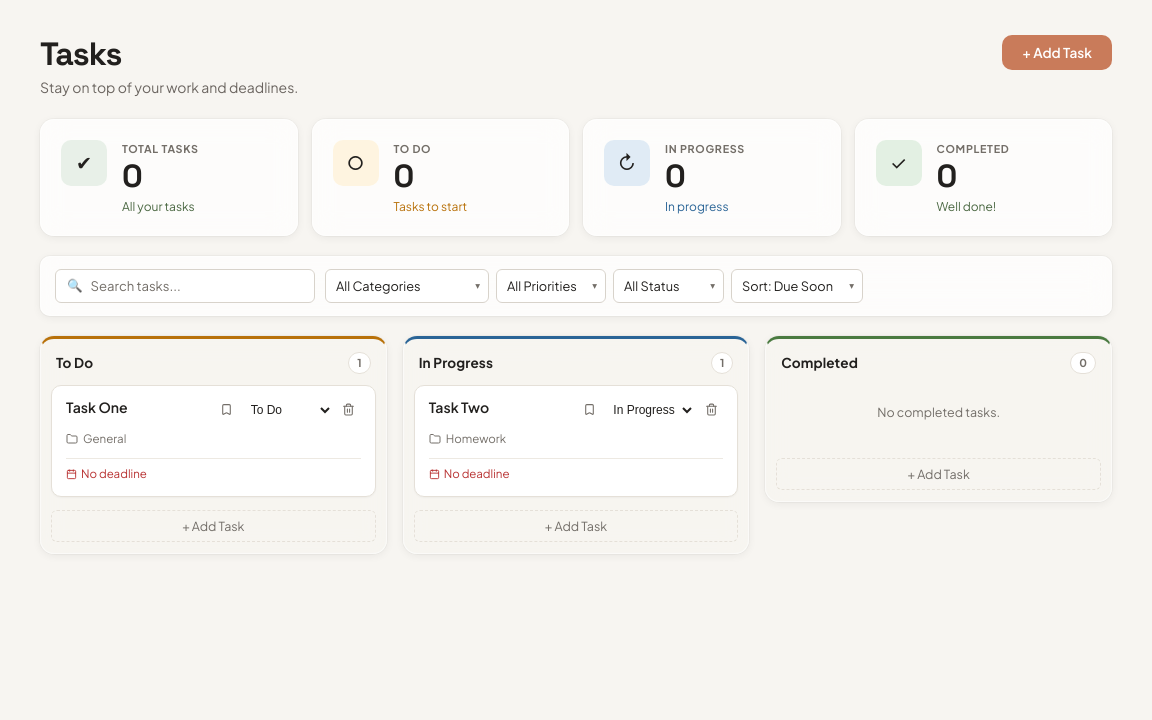
Scenario: Tasks Component › filters tasks by search query
Type "One" into the search field with placeholder "Search tasks..." at point(197, 286), box [91,278,303,294]
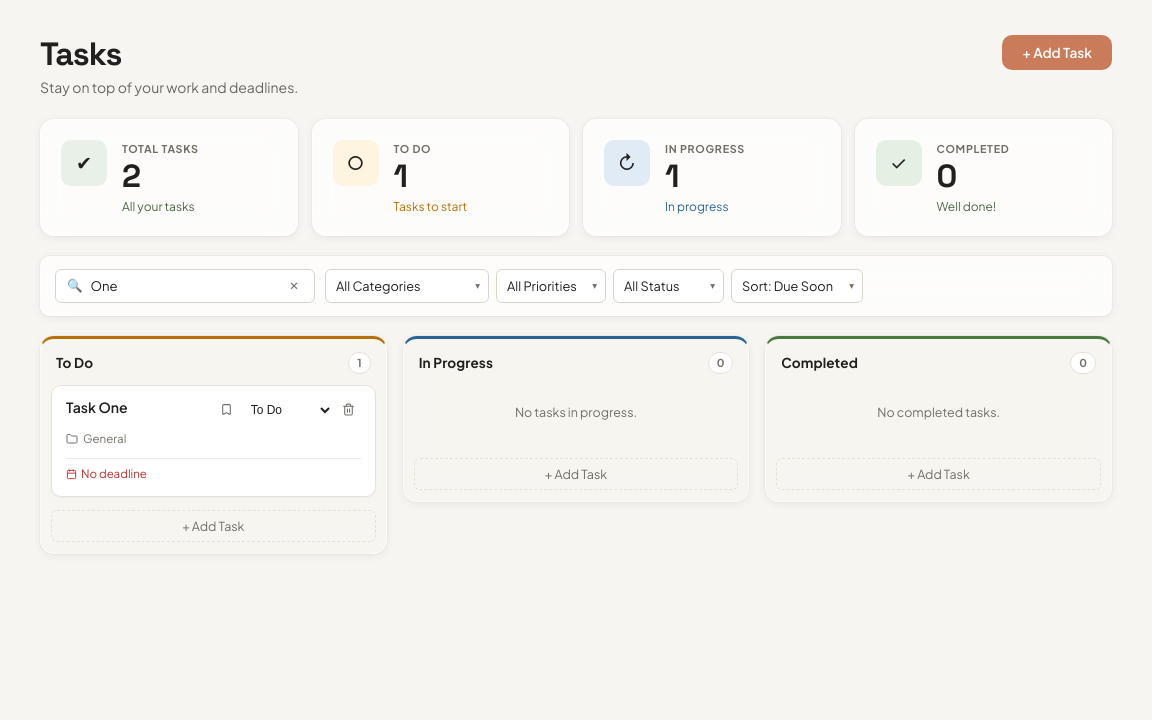
Expected: the text "Task One" is shown, [66,398,128,416]
Expected: the text "Task Two" is gone
